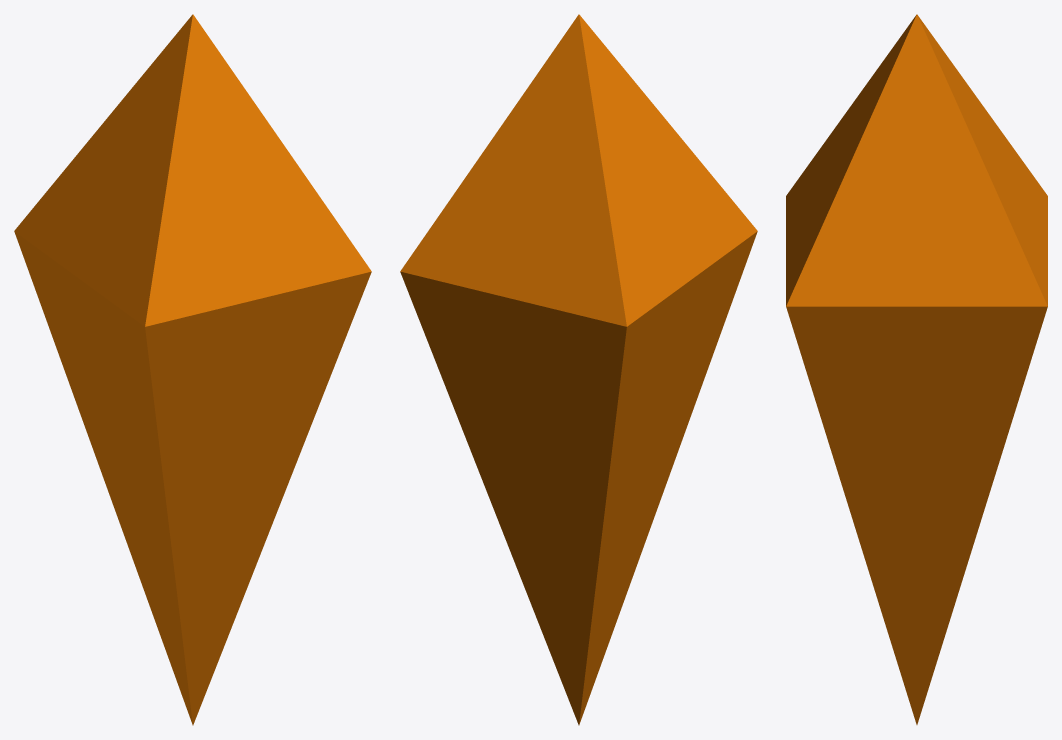
Rendered from OrangeMarker.fbx.
3 renders of one model, left to right at view 1: azimuth 30°, elevation 25°; view 2: azimuth 150°, elevation 25°; view 3: azimuth 270°, elevation 25°, orthographic.
Parts seen in each view (by area): view 1: PodiumMarker; view 2: PodiumMarker; view 3: PodiumMarker.
Part boxes in pixels (x1,y1,x2,y2): PodiumMarker: [14, 14, 371, 725]; PodiumMarker: [400, 14, 757, 725]; PodiumMarker: [786, 14, 1047, 724].
Size of the model in its own units: 50 by 150 by 50.
